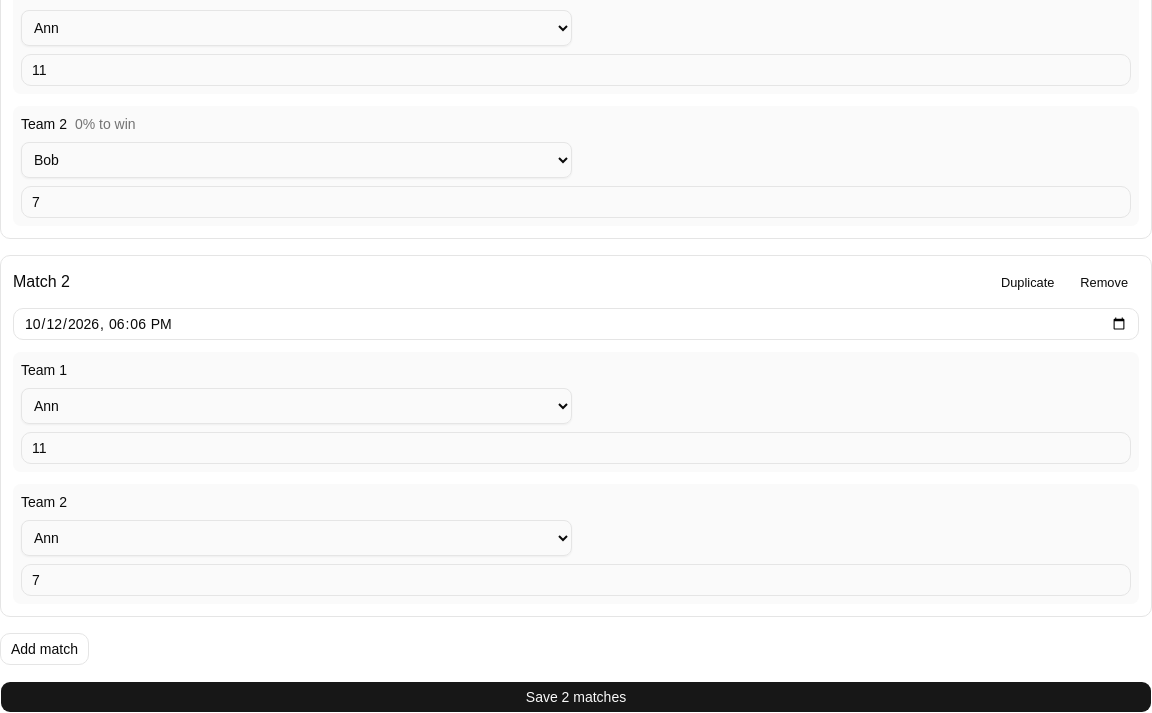
it: saving › checks every row first and saves nothing if any is invalid
(page scrolled)
Step 1. Click the button "Save 2 matches" → (576, 697), box [0,681,1151,712]
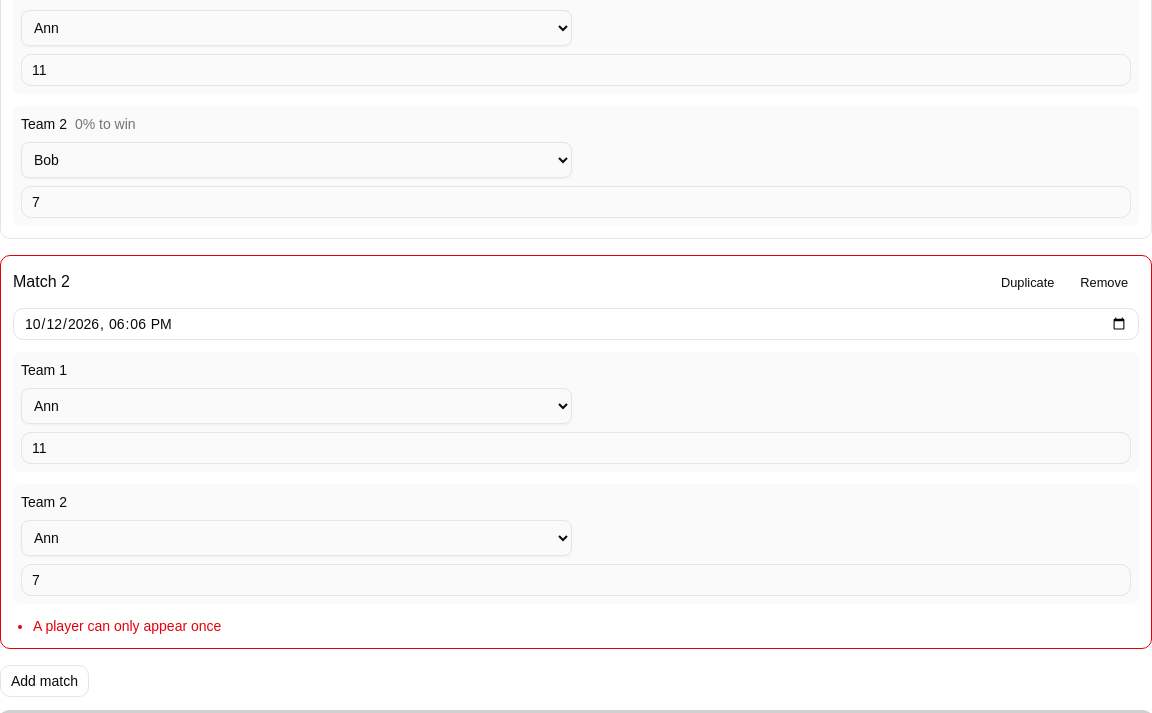
Check: the message reads "A player can only appear once", box [33,618,221,634]
